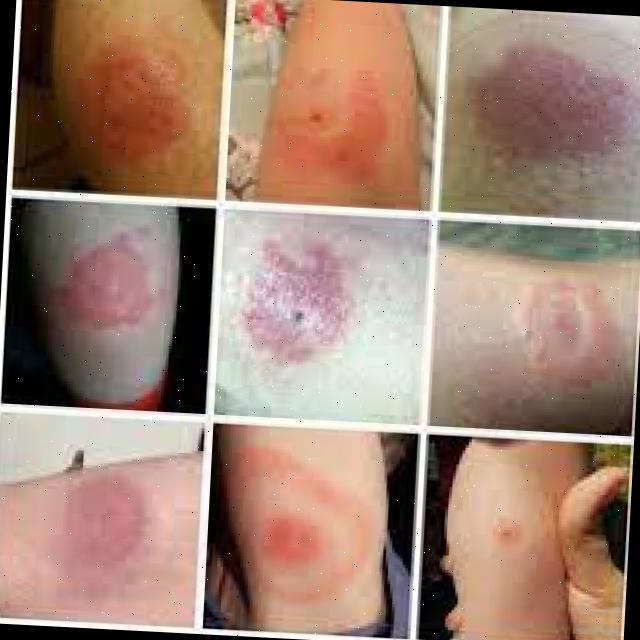kene: (441, 45, 626, 176), (484, 281, 618, 395), (228, 258, 358, 372), (54, 222, 163, 355), (276, 61, 387, 186), (269, 472, 362, 595), (85, 46, 185, 157), (55, 475, 147, 573), (494, 522, 523, 548)
